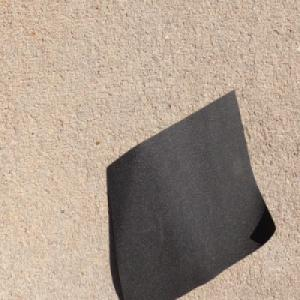PaintChip: (106, 86, 278, 299)
